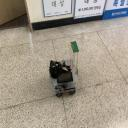cart: (49, 58, 79, 98)
